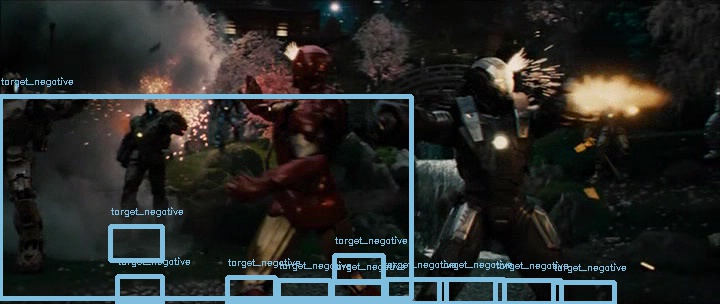person: (283, 41, 328, 92), (282, 41, 327, 92), (284, 41, 329, 92), (283, 40, 328, 91), (283, 42, 328, 93)
target_negative: (55, 185, 579, 214), (102, 29, 502, 59), (265, 176, 500, 226), (675, 214, 707, 279), (701, 57, 706, 275), (119, 277, 160, 295)
